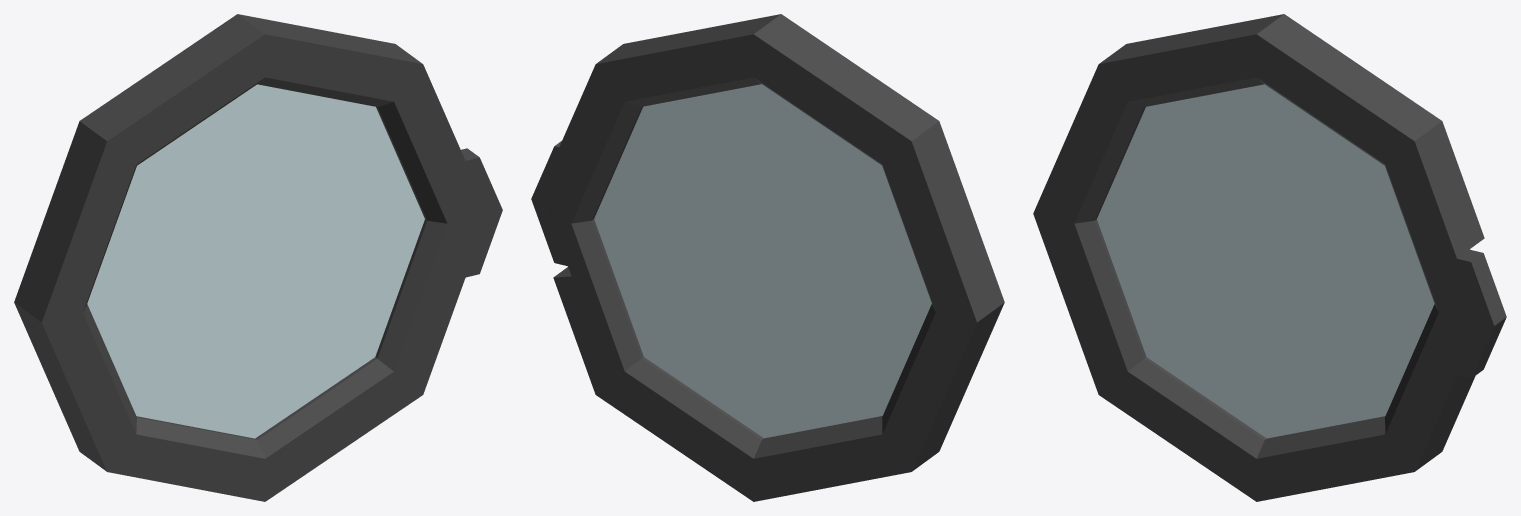
Rendered from Itr_Washingmachine_Door_01.FBX.
The picture shows the model from 3 angles, left to right: view 1: azimuth 30°, elevation 25°; view 2: azimuth 150°, elevation 25°; view 3: azimuth 330°, elevation 25°; orthographic projection.
Parts seen in each view (by area): view 1: Itr_Washingmachine_Door_01; view 2: Itr_Washingmachine_Door_01; view 3: Itr_Washingmachine_Door_01.
Part boxes in pixels (<box>): Itr_Washingmachine_Door_01: <box>14,14,502,501</box>; Itr_Washingmachine_Door_01: <box>531,14,1004,501</box>; Itr_Washingmachine_Door_01: <box>1033,14,1506,501</box>.
Size of the model in its own units: 28.22 by 27.35 by 2.94.
